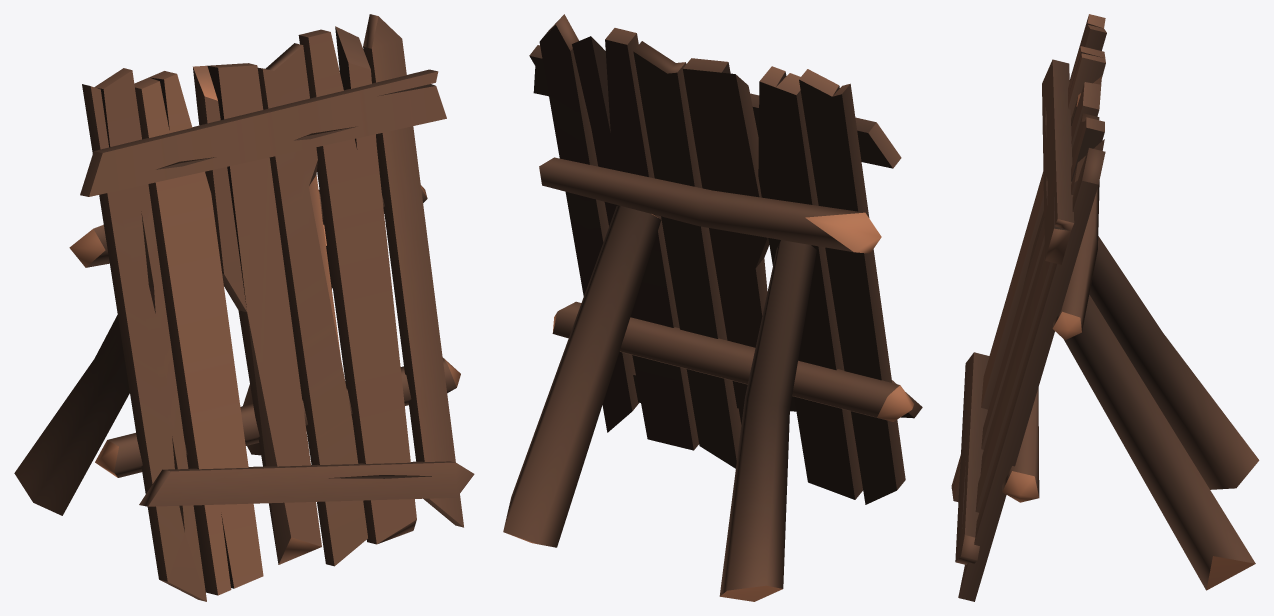
The model's file is Barricade_1C.FBX.
The picture shows the model from 3 angles, left to right: view 1: azimuth 30°, elevation 25°; view 2: azimuth 150°, elevation 25°; view 3: azimuth 270°, elevation 25°; orthographic projection. The views are drawn at different scales.
Parts seen in each view (by area): view 1: Barricade_1C; view 2: Barricade_1C; view 3: Barricade_1C.
Part boxes in pixels (left/top/right/bottom): Barricade_1C: left=14, top=14, right=474, bottom=601; Barricade_1C: left=503, top=14, right=922, bottom=601; Barricade_1C: left=951, top=14, right=1259, bottom=601.
Size of the model in its own units: 208 by 267 by 160.
